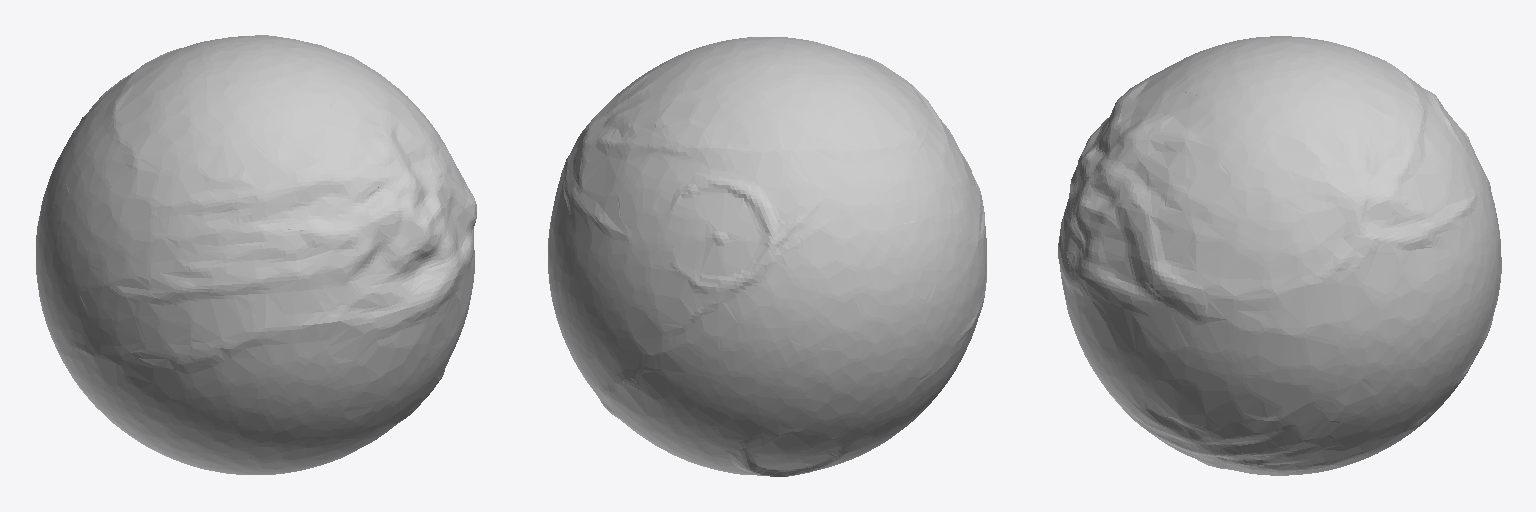
Rendered from planet-test-reduced.obj.
3 views of the same model, side by side, from view 1: azimuth 30°, elevation 25°; view 2: azimuth 150°, elevation 25°; view 3: azimuth 270°, elevation 25° (orthographic).
Visible parts, largest first — view 1: Icosphere_Icosphere.002; view 2: Icosphere_Icosphere.002; view 3: Icosphere_Icosphere.002.
Part boxes in pixels (left/top/right/bottom): Icosphere_Icosphere.002: left=36, top=35, right=476, bottom=474; Icosphere_Icosphere.002: left=548, top=37, right=986, bottom=476; Icosphere_Icosphere.002: left=1058, top=36, right=1501, bottom=475.
Bounding box in the file's own units: 2 × 2 × 2.02.